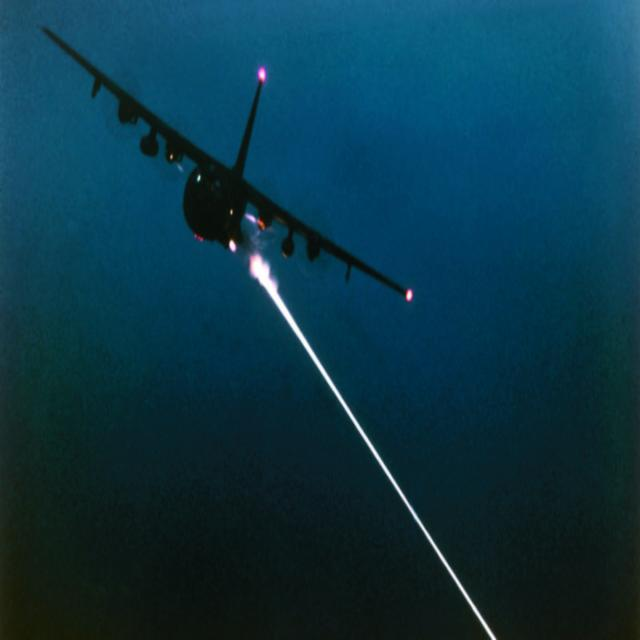MIL_Plane: (36, 24, 413, 301)
